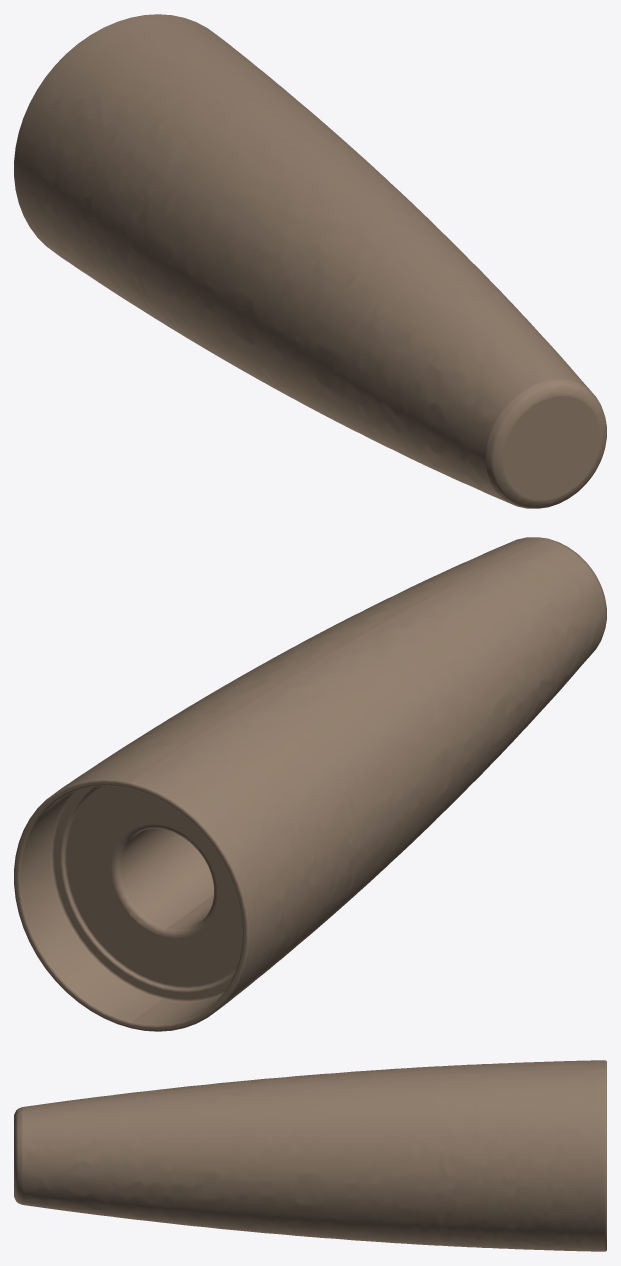
File: 281240_DECOMPRESSION CONE TOOL.fbx
3 views of the same model, one above another, from view 1: azimuth 30°, elevation 25°; view 2: azimuth 150°, elevation 25°; view 3: azimuth 270°, elevation 25° (orthographic). The views are drawn at different scales.
Visible parts, largest first — view 1: meshes[0]; view 2: meshes[0]; view 3: meshes[0].
Part boxes in pixels (left/top/right/bottom): meshes[0]: left=14, top=14, right=606, bottom=508; meshes[0]: left=14, top=537, right=606, bottom=1031; meshes[0]: left=14, top=1060, right=606, bottom=1251.
Size of the model in its own units: 19.97 by 20 by 62.
